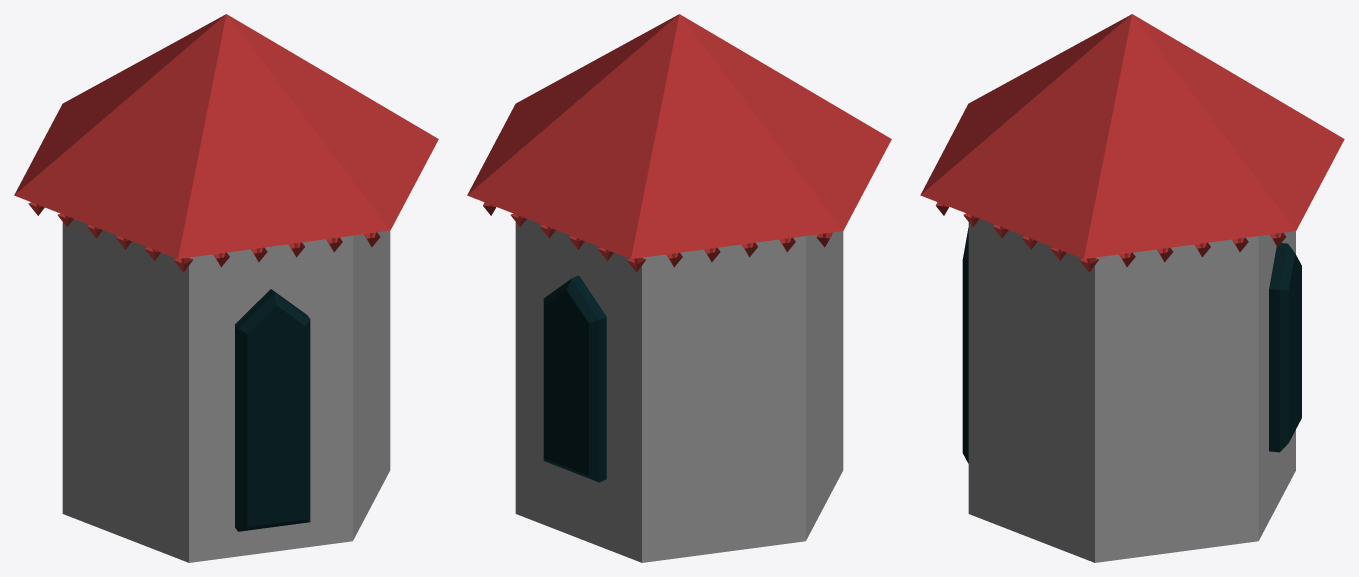
Rendered from TOWER 2.fbx.
3 views of the same model, side by side, from view 1: azimuth 30°, elevation 25°; view 2: azimuth 150°, elevation 25°; view 3: azimuth 270°, elevation 25° (orthographic).
Visible parts, largest first — view 1: TOWER_2; view 2: TOWER_2; view 3: TOWER_2.
Part boxes in pixels (x1,y1,x2,y2): TOWER_2: (14,14,438,562); TOWER_2: (467,14,891,562); TOWER_2: (920,14,1344,562).
Size of the model in its own units: 450 by 546 by 439.
Materials: 1 (1 with a texture image).
